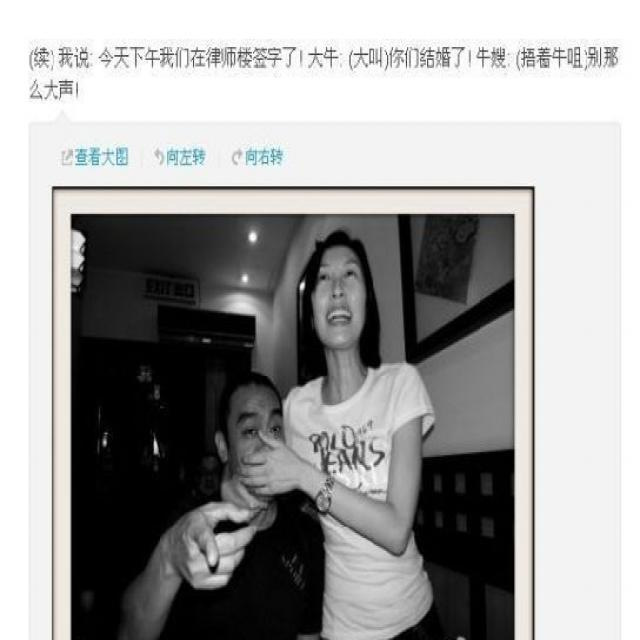nomask: (234, 391, 286, 494), (316, 253, 364, 343)
